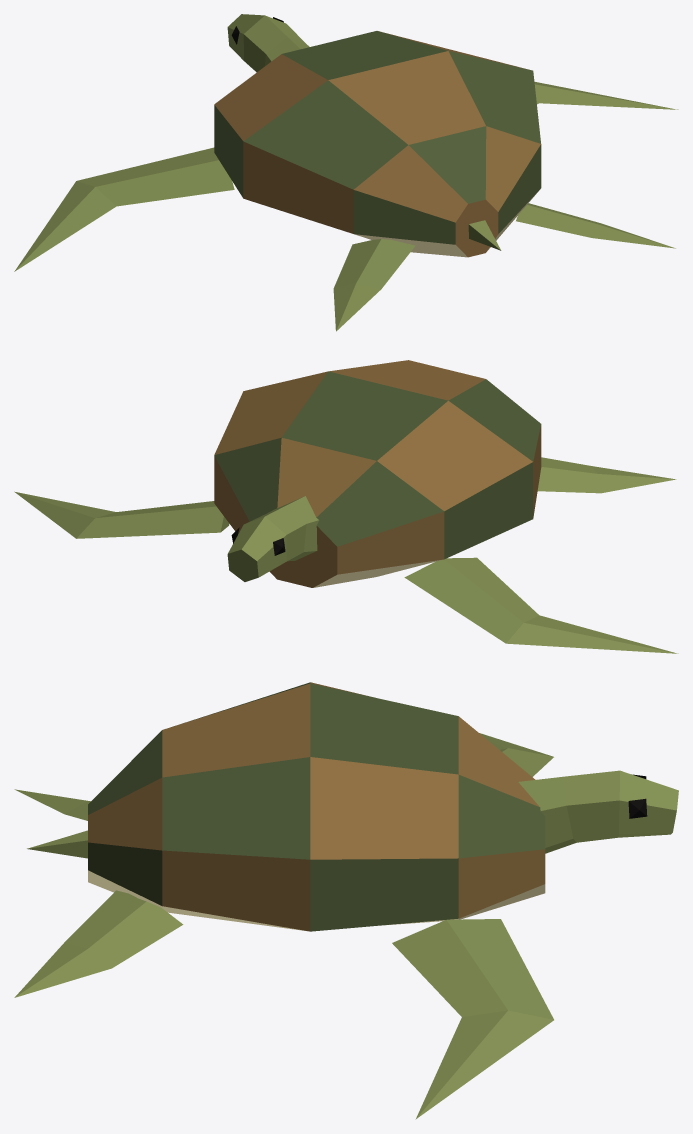
The model's file is sea_turtle.glb.
The picture shows the model from 3 angles, top to bottom: view 1: azimuth 30°, elevation 25°; view 2: azimuth 150°, elevation 25°; view 3: azimuth 270°, elevation 25°; orthographic projection. The views are drawn at different scales.
Parts seen in each view (by area): view 1: Body, Flipper_FL, Flipper_BL, Head, Flipper_BR, Flipper_FR, Tail; view 2: Body, Flipper_FL, Flipper_FR, Head, Flipper_BL; view 3: Body, Flipper_FR, Head, Flipper_BR, Flipper_FL, Flipper_BL, Tail.
Part boxes in pixels (left/top/right/bottom): Body: left=214, top=31, right=541, bottom=257; Flipper_FL: left=14, top=147, right=234, bottom=271; Flipper_BL: left=333, top=239, right=415, bottom=331; Head: left=227, top=14, right=309, bottom=72; Flipper_BR: left=516, top=203, right=675, bottom=248; Flipper_FR: left=534, top=81, right=678, bottom=109; Tail: left=468, top=220, right=501, bottom=250; Body: left=214, top=360, right=541, bottom=587; Flipper_FL: left=404, top=557, right=678, bottom=653; Flipper_FR: left=14, top=491, right=229, bottom=538; Head: left=227, top=496, right=318, bottom=581; Flipper_BL: left=537, top=457, right=676, bottom=493; Body: left=88, top=682, right=545, bottom=931; Flipper_FR: left=392, top=919, right=553, bottom=1119; Head: left=518, top=770, right=678, bottom=853; Flipper_BR: left=14, top=890, right=183, bottom=997; Flipper_FL: left=479, top=733, right=553, bottom=776; Flipper_BL: left=14, top=789, right=90, bottom=820; Tail: left=27, top=830, right=87, bottom=858.
Bounding box in the file's own units: 1.25 × 0.28 × 0.8613.
